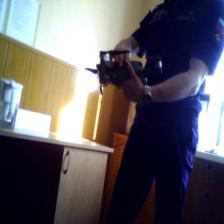drone: (85, 46, 172, 94)
